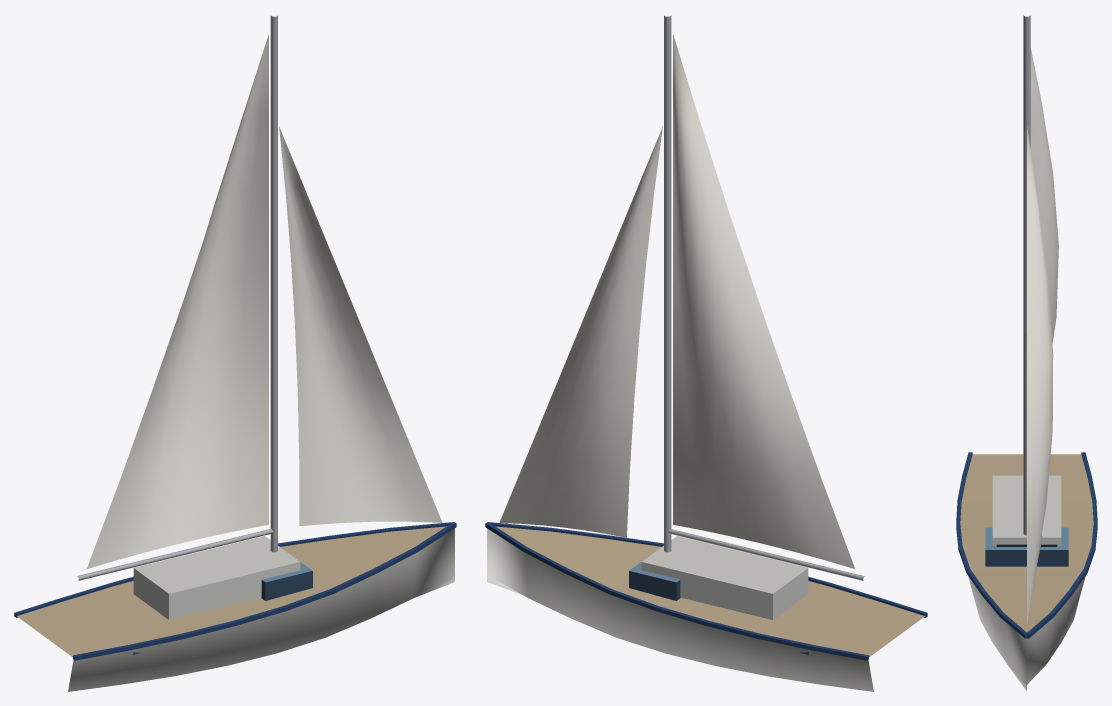
Rendered from sky_fx_boats.glb.
3 views of the same model, side by side, from view 1: azimuth 30°, elevation 25°; view 2: azimuth 150°, elevation 25°; view 3: azimuth 270°, elevation 25° (orthographic). The views are drawn at different scales.
Visible parts, largest first — view 1: SFB_Sail, SFB_Motor; view 2: SFB_Sail, SFB_Motor; view 3: SFB_Sail, SFB_Motor.
Boxes of the visible parts, <box> form: SFB_Sail: <box>14,15,456,691</box>; SFB_Motor: <box>133,549,312,654</box>; SFB_Sail: <box>485,15,927,691</box>; SFB_Motor: <box>629,549,808,654</box>; SFB_Sail: <box>956,15,1097,691</box>; SFB_Motor: <box>985,527,1068,566</box>.
Size of the model in its own units: 9.02 by 13.15 by 2.78.
